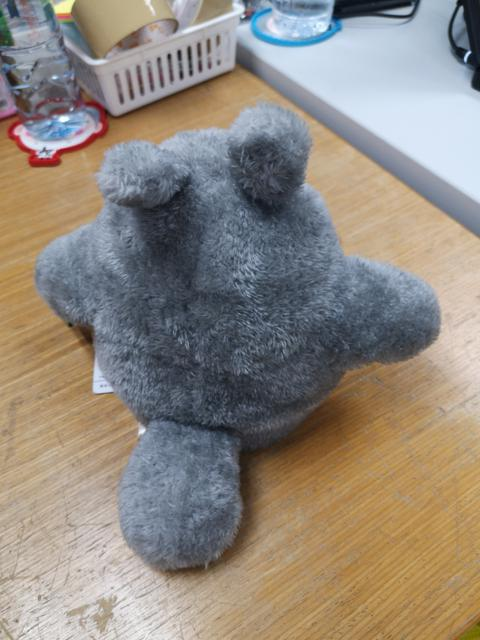totoro: (30, 99, 445, 581)
